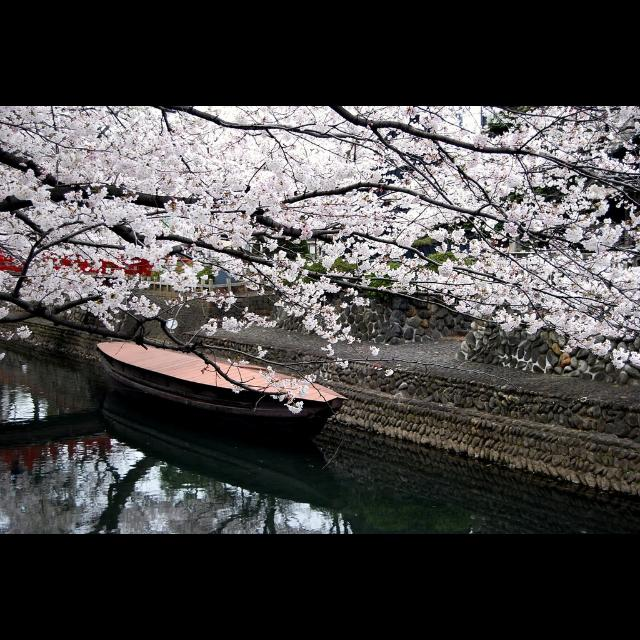Flower: (1, 106, 639, 370), (230, 366, 312, 414), (368, 346, 379, 356)
